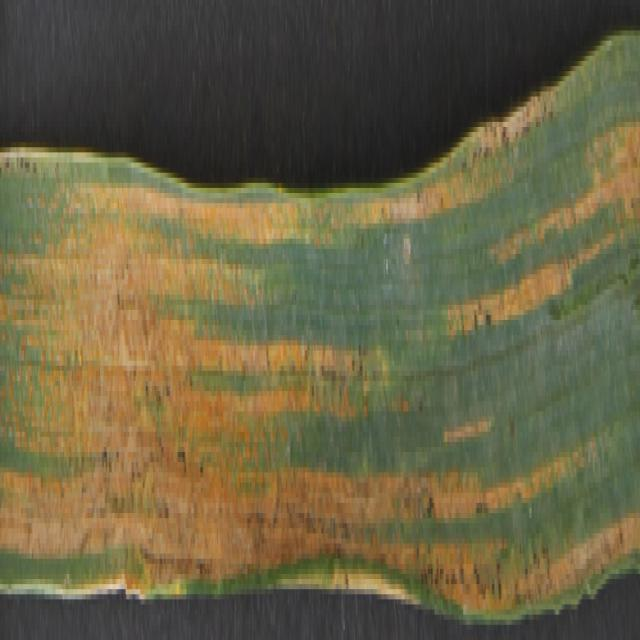leaf rust: (1, 81, 637, 604)
